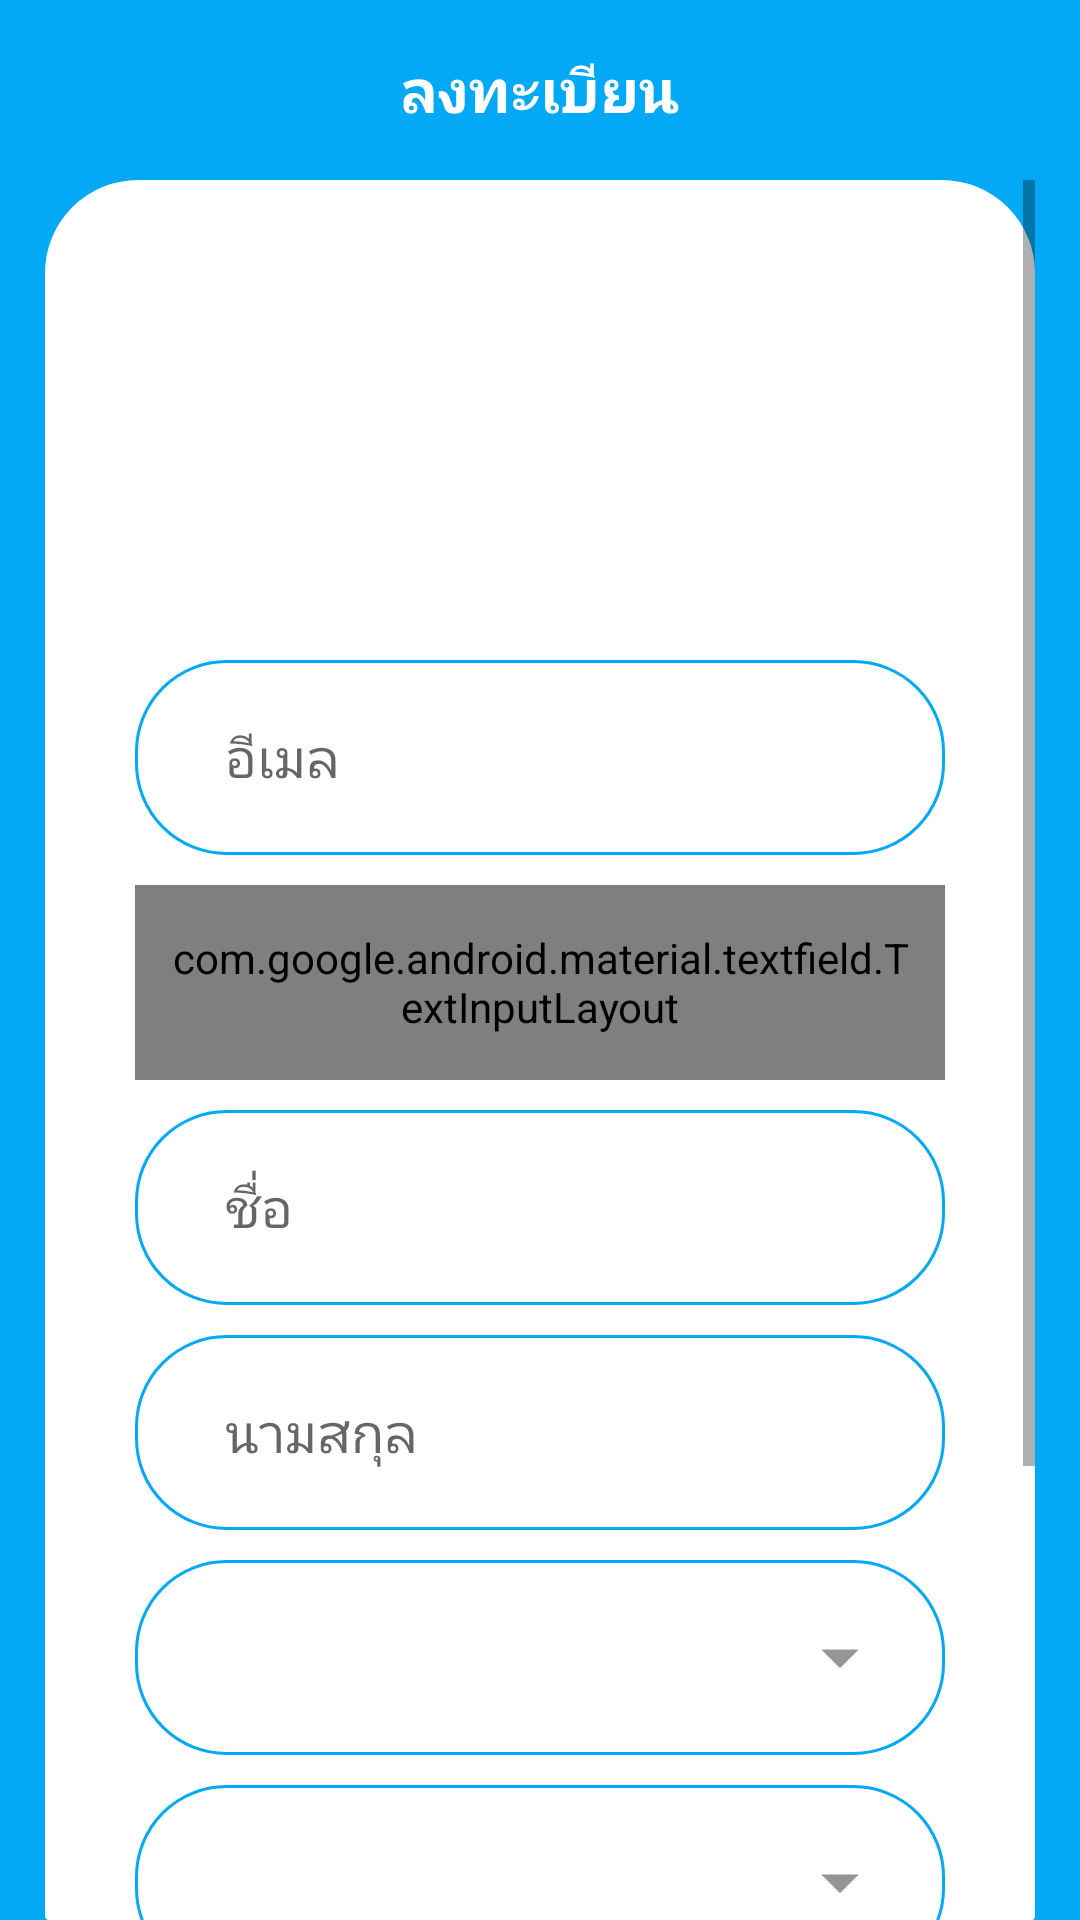

Point at icon controls on the screen. Image size 1080 × 1920, points as (x,y).
arrow drop down: (840,1658), (840,1883)
